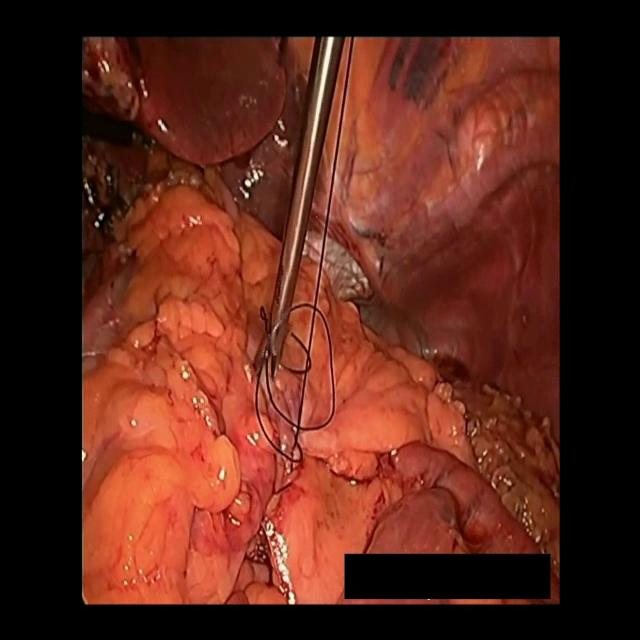surgical-area: (79, 36, 560, 599)
surgical-tool: (264, 36, 344, 381)
